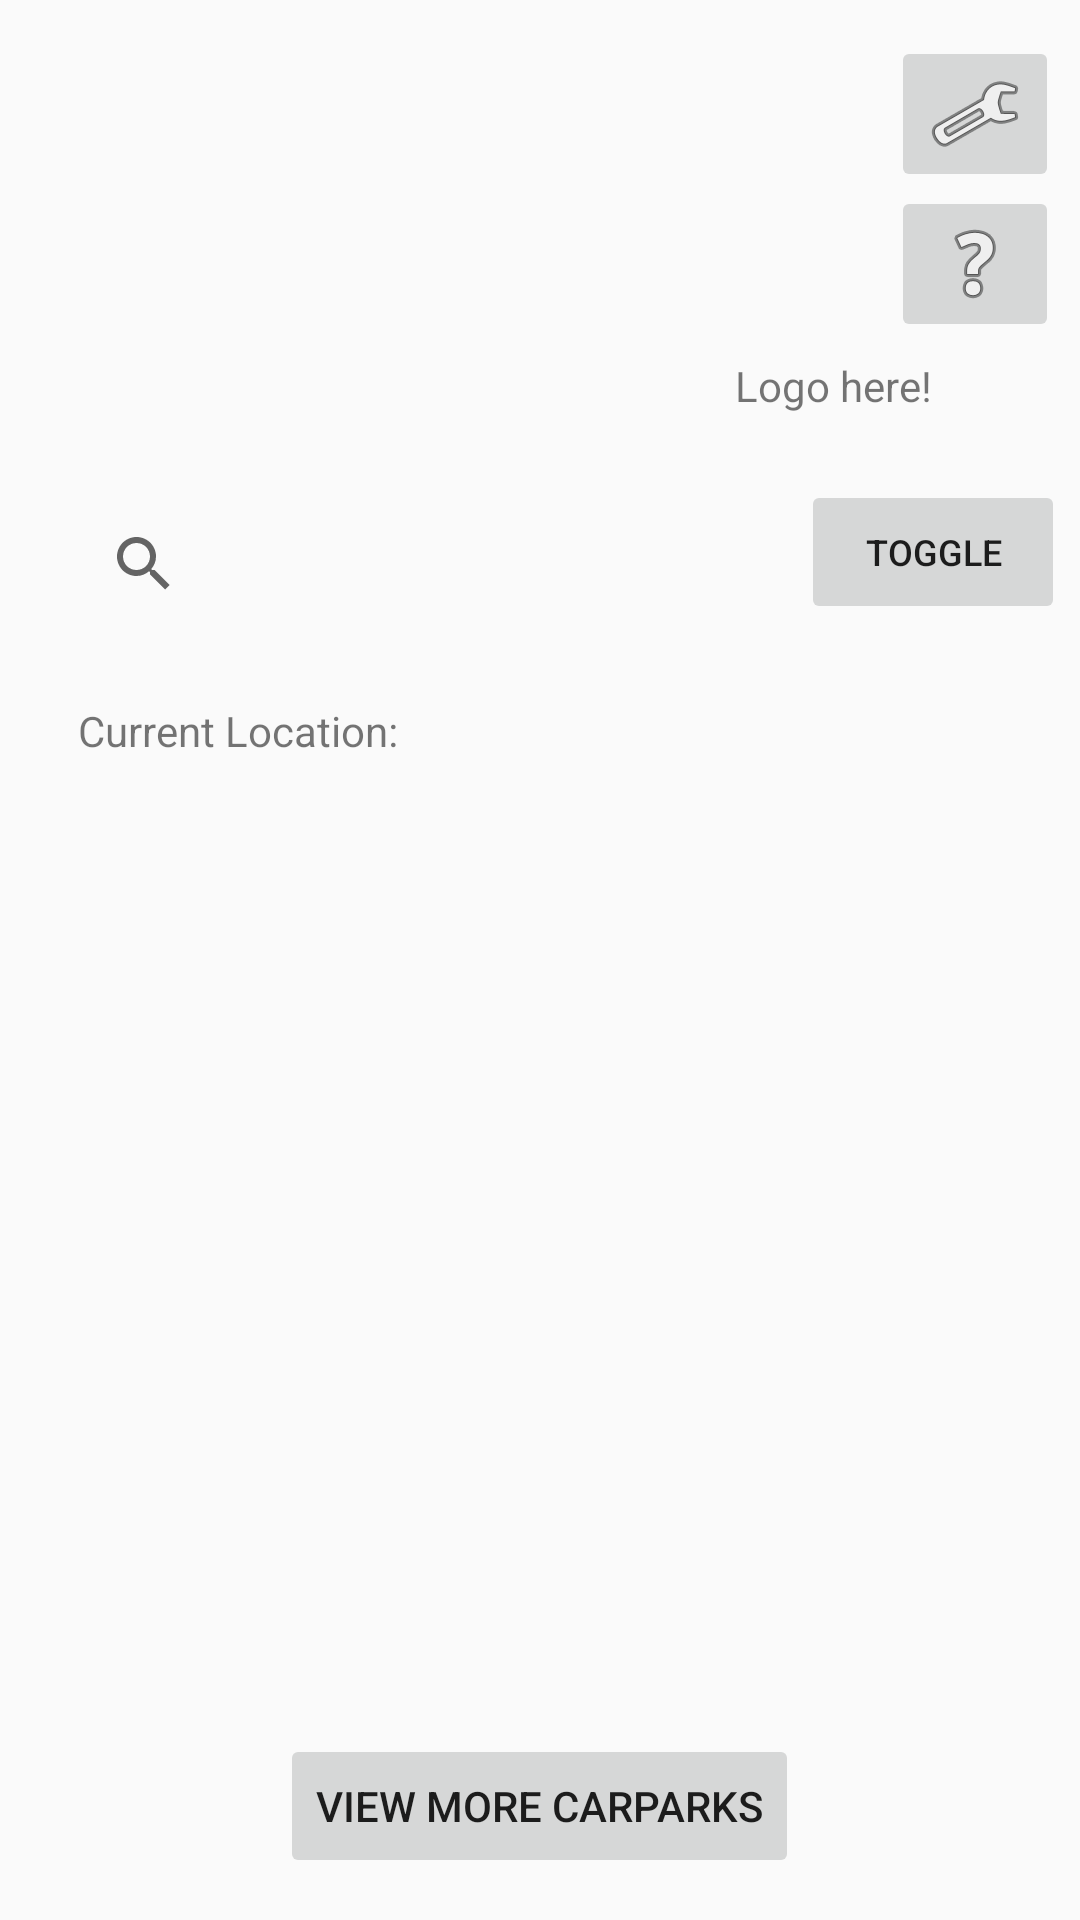

Named icons in this screenshot (1080 x 1920) and their centers, (x=x, y=y):
help: (x=975, y=264)
manage: (x=975, y=114)
